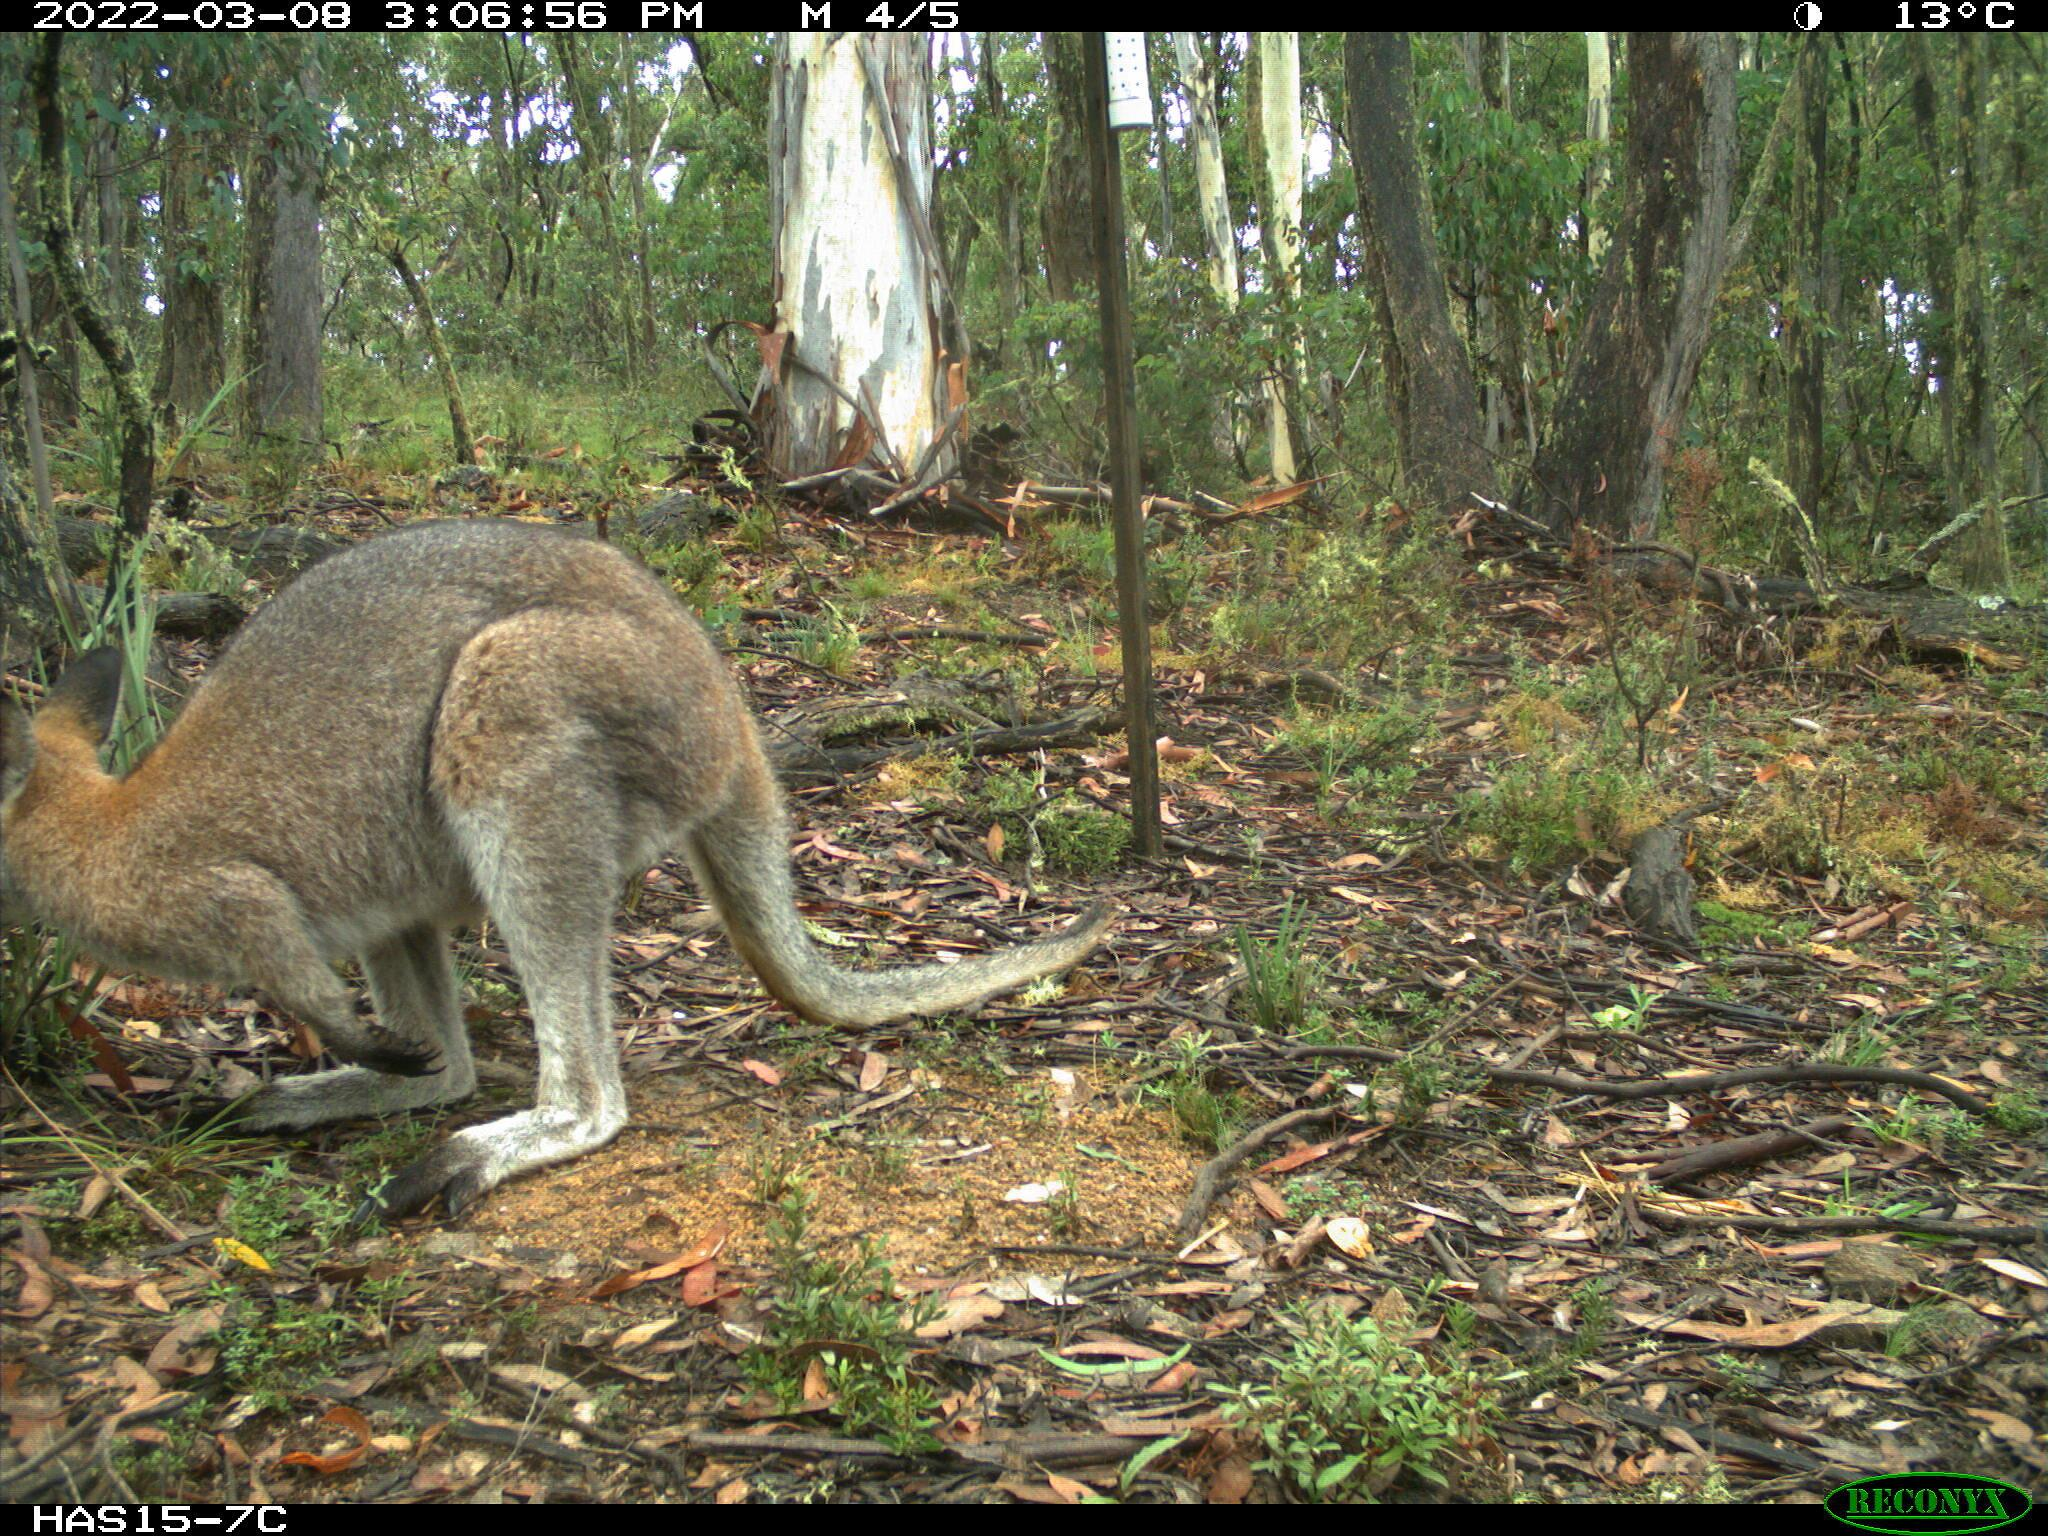Red-necked wallaby: (0, 518, 1135, 1228)
